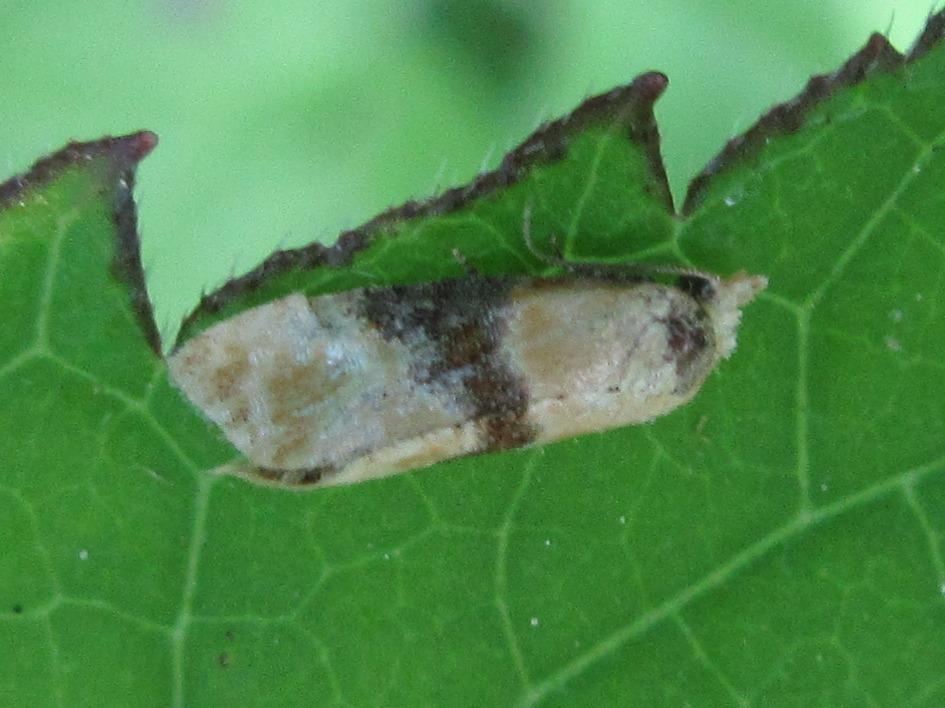Eupoecilia Ambiguella: (166, 207, 770, 491)
